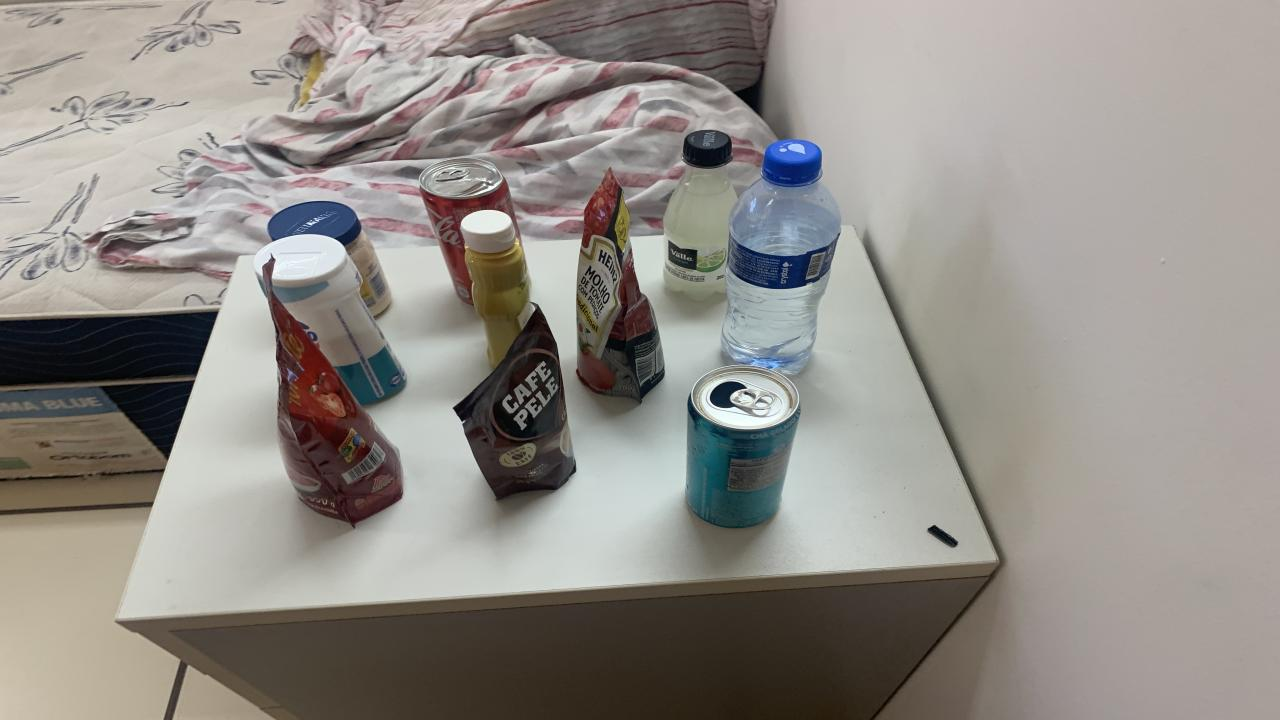Cleaner-Cleanup_Items: (252, 234, 405, 403)
Coffee-Pantry_Items: (455, 306, 575, 499)
Coke-Drinks: (420, 158, 518, 304)
Mayonnaise-Pantry_Items: (268, 201, 390, 315)
Mustard-Pantry_Items: (460, 210, 530, 368)
Soda-Drinks: (662, 129, 738, 300)
Tea-Drinks: (685, 366, 800, 527)
Tomato_Sauce-Pantry_Items: (268, 292, 402, 527), (578, 171, 665, 401)
Water_Bottle-Drinks: (722, 139, 840, 375)
